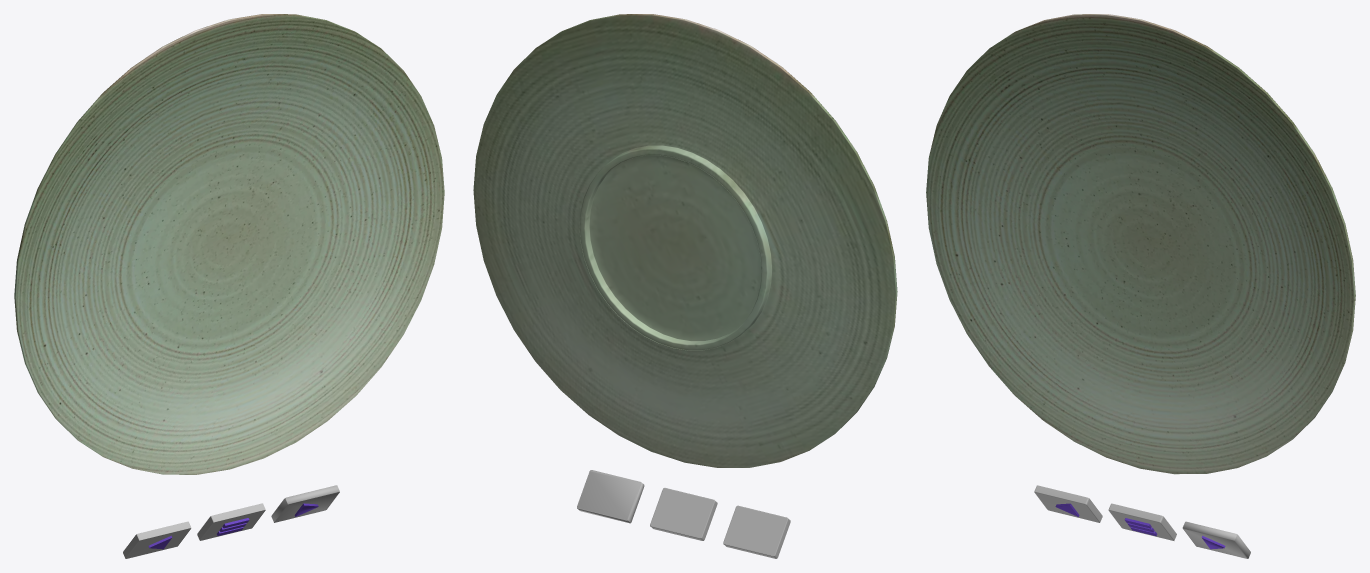
3 renders of one model, left to right at view 1: azimuth 30°, elevation 25°; view 2: azimuth 150°, elevation 25°; view 3: azimuth 330°, elevation 25°, orthographic.
Parts seen in each view (by area): view 1: plato, btn_der, btn_medio, btn_izq; view 2: plato, btn_der, btn_izq, btn_medio; view 3: plato, btn_medio, btn_izq, btn_der.
Part boxes in pixels (x1=…): plato: x1=14, y1=14, x2=444, y2=474; btn_der: x1=271, y1=485, x2=339, y2=522; btn_medio: x1=197, y1=503, x2=265, y2=540; btn_izq: x1=123, y1=521, x2=191, y2=558; plato: x1=473, y1=14, x2=897, y2=467; btn_der: x1=577, y1=470, x2=644, y2=523; btn_izq: x1=723, y1=505, x2=790, y2=558; btn_medio: x1=650, y1=488, x2=717, y2=540; plato: x1=926, y1=14, x2=1355, y2=474; btn_medio: x1=1108, y1=503, x2=1176, y2=540; btn_izq: x1=1034, y1=485, x2=1102, y2=522; btn_der: x1=1182, y1=521, x2=1250, y2=558.
Size of the model in its own units: 0.2286 by 0.2643 by 0.0194.
1 material, 1 textured.
